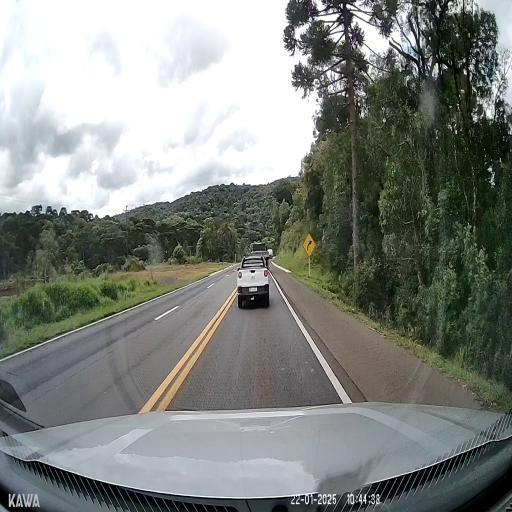A-2b: (303, 234, 316, 257)
